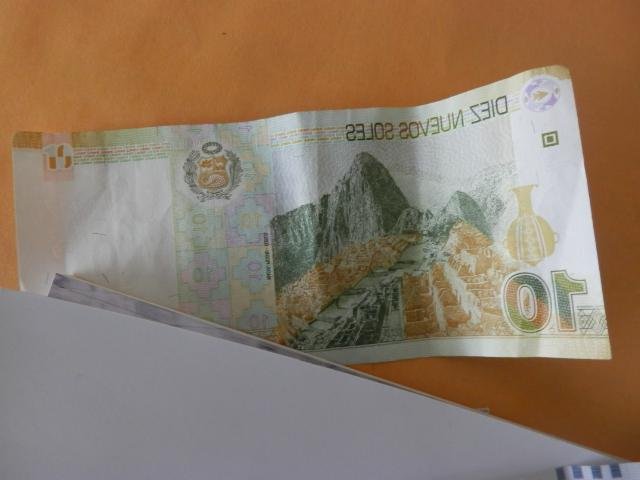B10: (13, 64, 610, 359)
